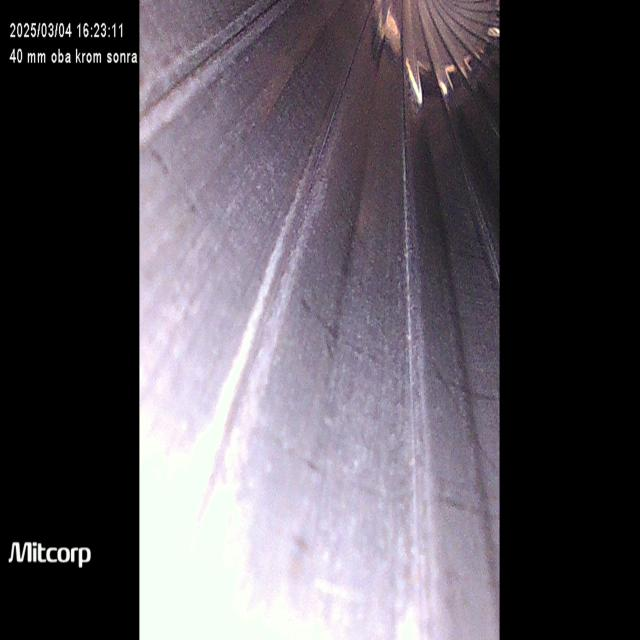hata_8.1: (235, 274, 506, 435)
